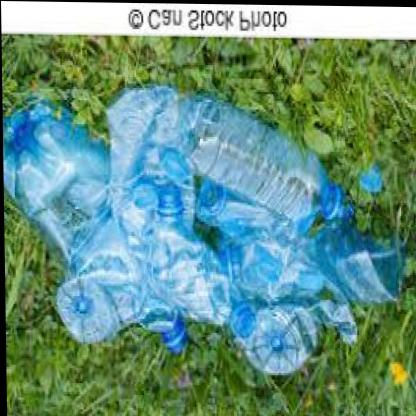Plastic: (187, 107, 366, 226), (7, 108, 115, 238), (58, 256, 192, 360), (216, 233, 346, 294), (237, 297, 332, 372)
